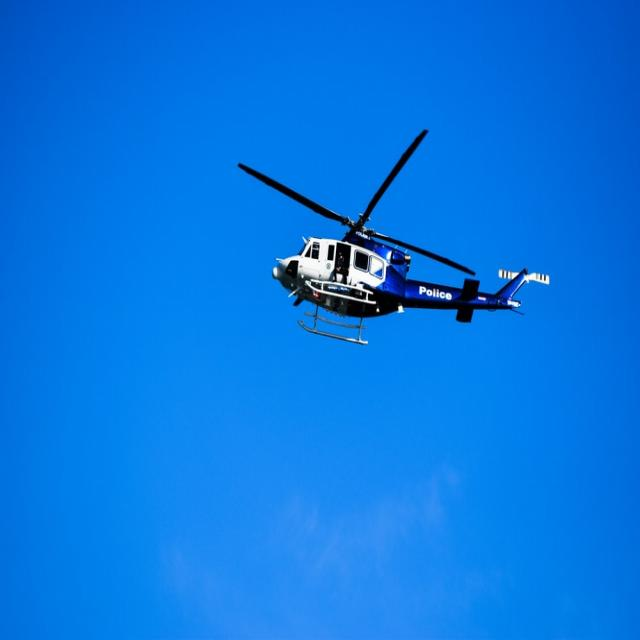helicopter: (209, 144, 551, 347), (210, 143, 211, 144)
